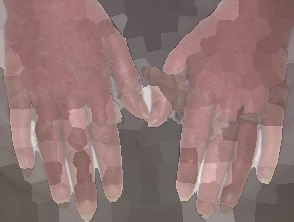SJS-TEN: (142, 0, 294, 222), (0, 0, 150, 222)
